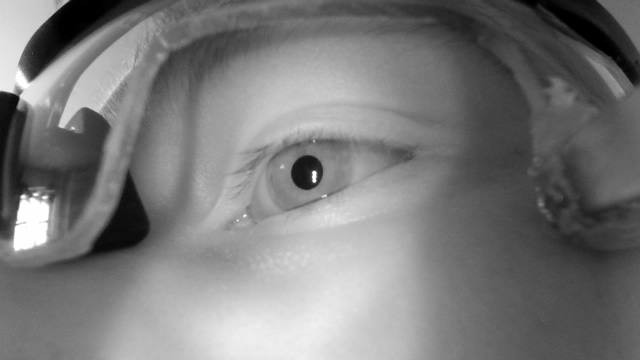pupil: (290, 154, 323, 191)
